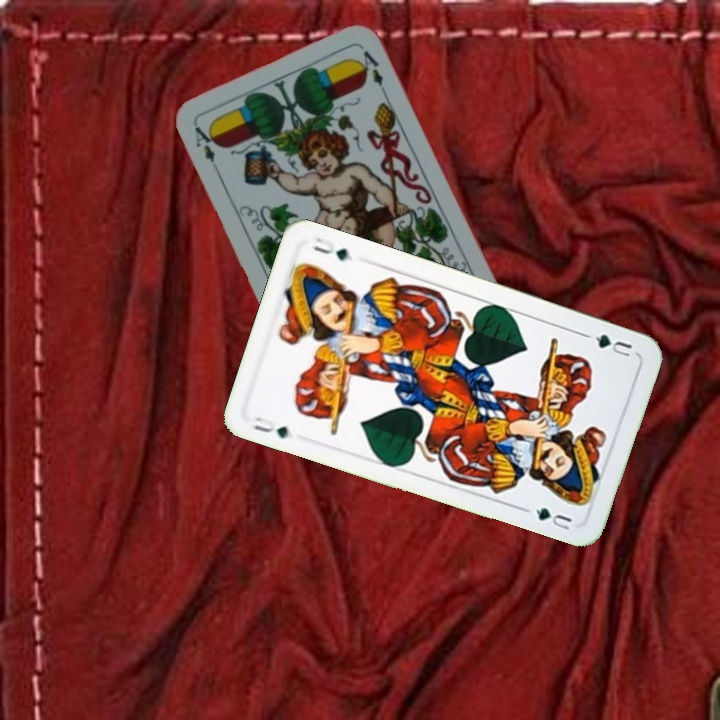EA: (190, 122, 223, 177)
GU: (581, 329, 635, 361), (249, 412, 291, 441)
